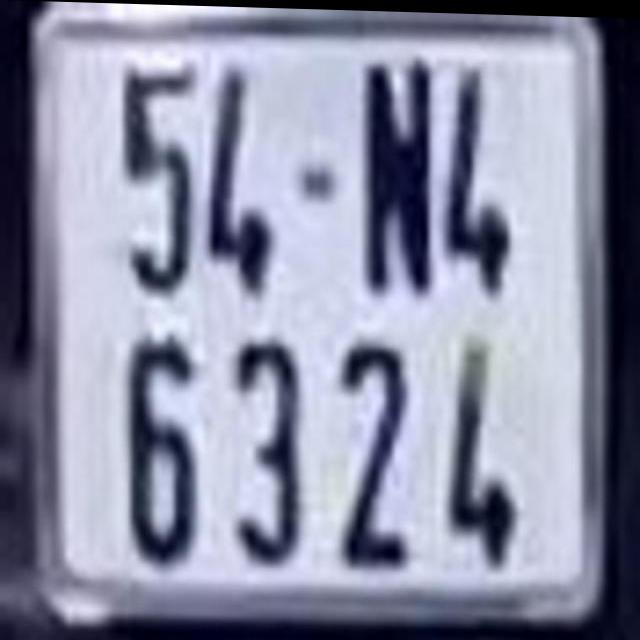2: (337, 334, 407, 565)
3: (234, 336, 298, 567)
4: (449, 332, 524, 565), (444, 58, 512, 286), (208, 71, 276, 298)
5: (121, 57, 195, 288)
6: (126, 331, 202, 557)
N: (361, 53, 432, 296)
